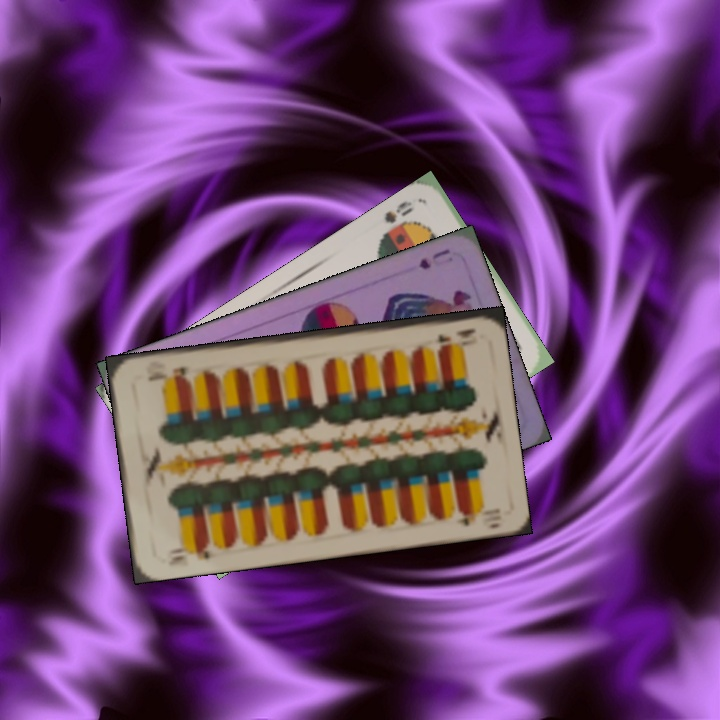E10: (164, 538, 213, 568), (431, 324, 479, 349)
SO: (380, 196, 416, 226)
SU: (415, 245, 453, 272)
